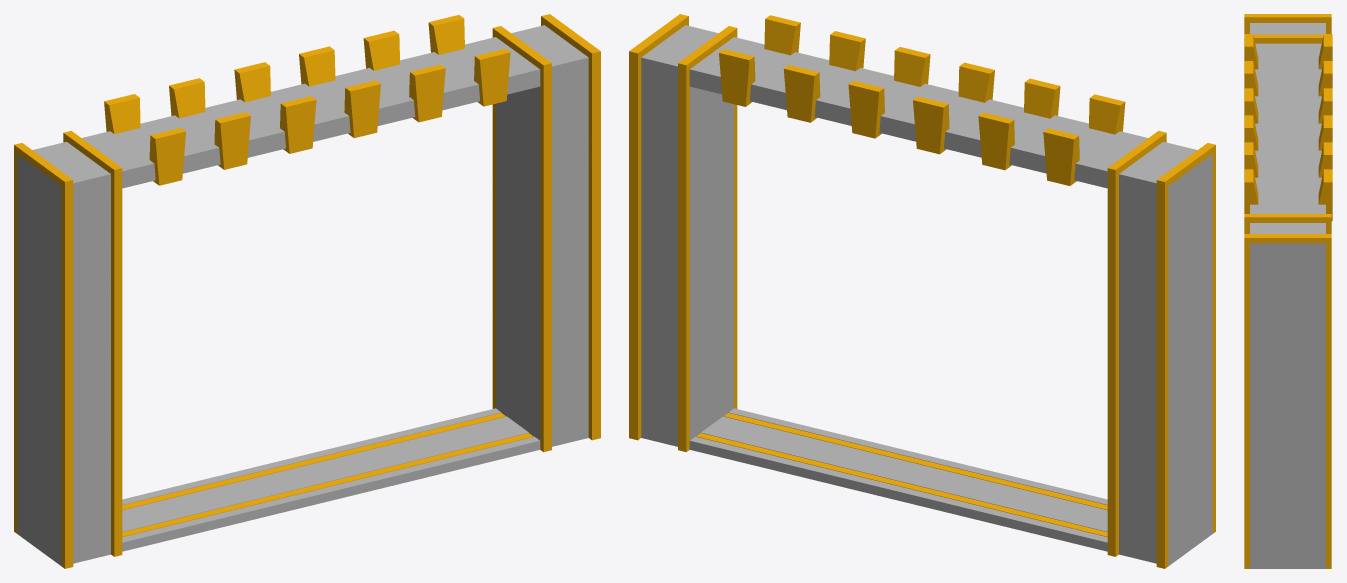
Rendered from lowpoly_giant_door_frame.glb.
3 renders of one model, left to right at view 1: azimuth 30°, elevation 25°; view 2: azimuth 150°, elevation 25°; view 3: azimuth 270°, elevation 25°, orthographic. The views are drawn at different scales.
Visible parts, largest first — view 1: SM_BigDoorFrame; view 2: SM_BigDoorFrame; view 3: SM_BigDoorFrame.
Boxes of the visible parts, left/top/right/bottom form: SM_BigDoorFrame: left=14, top=14, right=600, bottom=568; SM_BigDoorFrame: left=629, top=14, right=1215, bottom=568; SM_BigDoorFrame: left=1244, top=14, right=1332, bottom=568.
Bounding box in the file's own units: 28 × 20.36 × 4.66.
